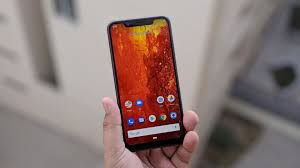nokia: (105, 11, 189, 153)
